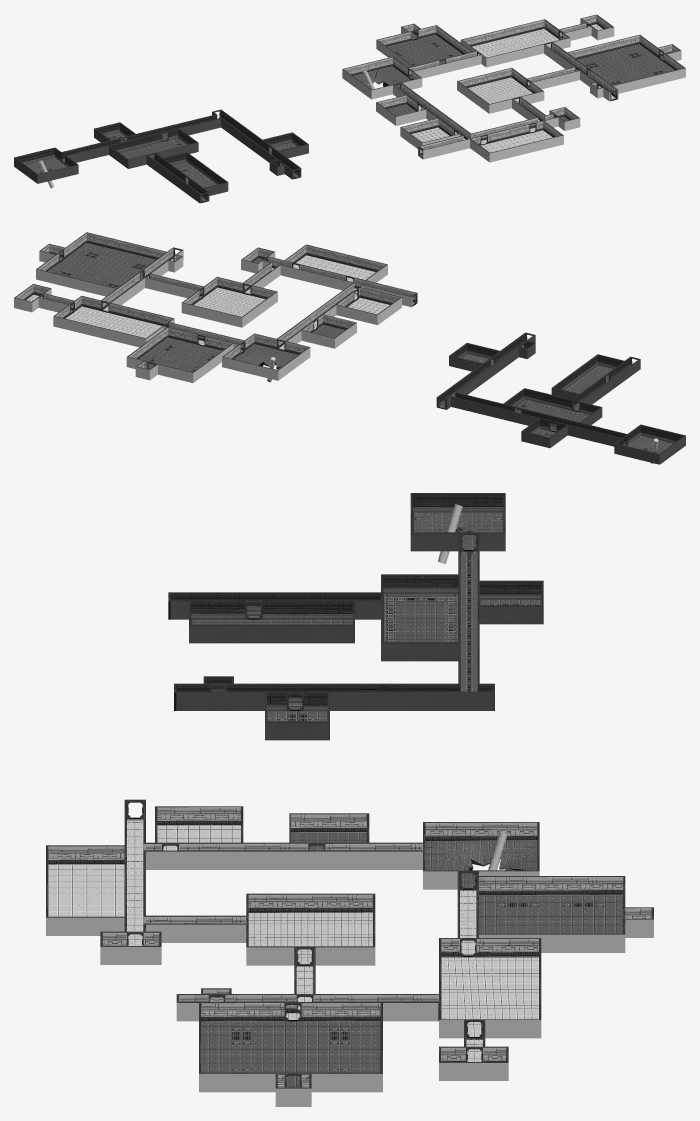
File: Ship_Map.fbx
The picture shows the model from 3 angles, top to bottom: view 1: azimuth 30°, elevation 25°; view 2: azimuth 150°, elevation 25°; view 3: azimuth 270°, elevation 25°; orthographic projection. The views are drawn at different scales.
Visible parts, largest first — view 1: Upper_Floor_Walls, Lower_Floor_Walls, Upper_Floor, Lower_Floor; view 2: Upper_Floor_Walls, Lower_Floor_Walls, Upper_Floor, Lower_Floor; view 3: Upper_Floor_Walls, Upper_Floor, Lower_Floor_Walls, Lower_Floor.
Part boxes in pixels (box(x1,y1,x2,y2)): Upper_Floor_Walls: box(342, 14, 685, 162); Lower_Floor_Walls: box(14, 109, 308, 203); Upper_Floor: box(353, 24, 674, 158); Lower_Floor: box(25, 132, 298, 202); Upper_Floor_Walls: box(14, 232, 417, 382); Lower_Floor_Walls: box(436, 332, 685, 464); Upper_Floor: box(26, 243, 415, 372); Lower_Floor: box(439, 345, 673, 453); Upper_Floor_Walls: box(46, 799, 653, 1106); Upper_Floor: box(48, 817, 623, 1087); Lower_Floor_Walls: box(168, 493, 543, 740); Lower_Floor: box(191, 512, 541, 721).
Size of the model in its own units: 13597 by 560 by 5868.
